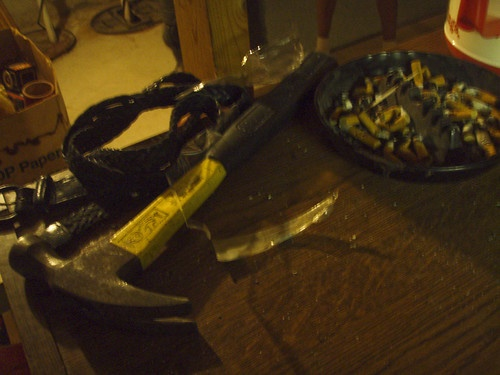hammer: (1, 49, 338, 311)
